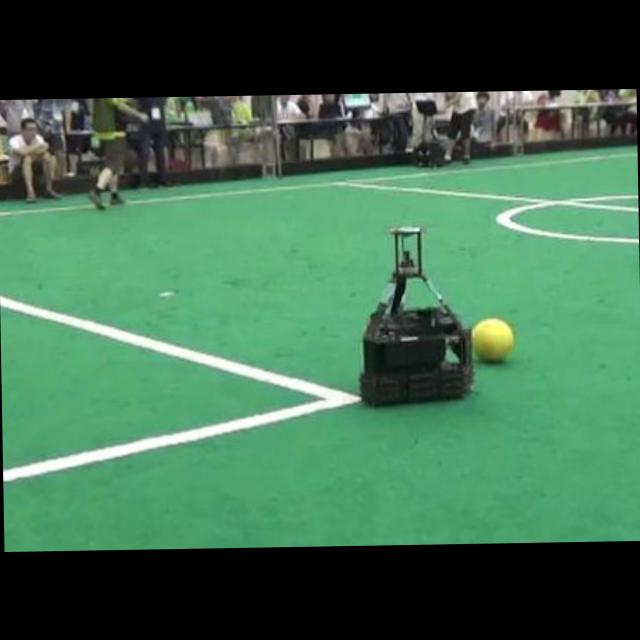ball: (472, 317, 513, 361)
robot: (360, 226, 472, 405)
